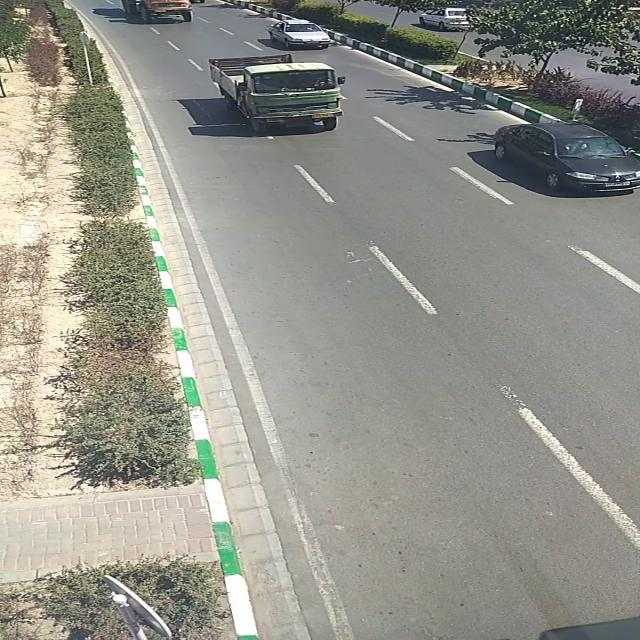car: (493, 122, 640, 194), (268, 22, 334, 48), (421, 9, 478, 27)
truck: (206, 57, 346, 132), (120, 0, 193, 24)
